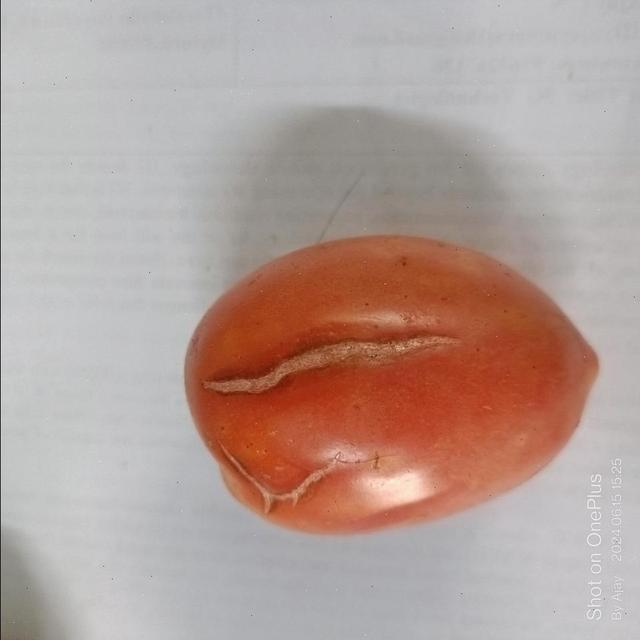Cracking Fruit: (232, 80, 352, 333)
